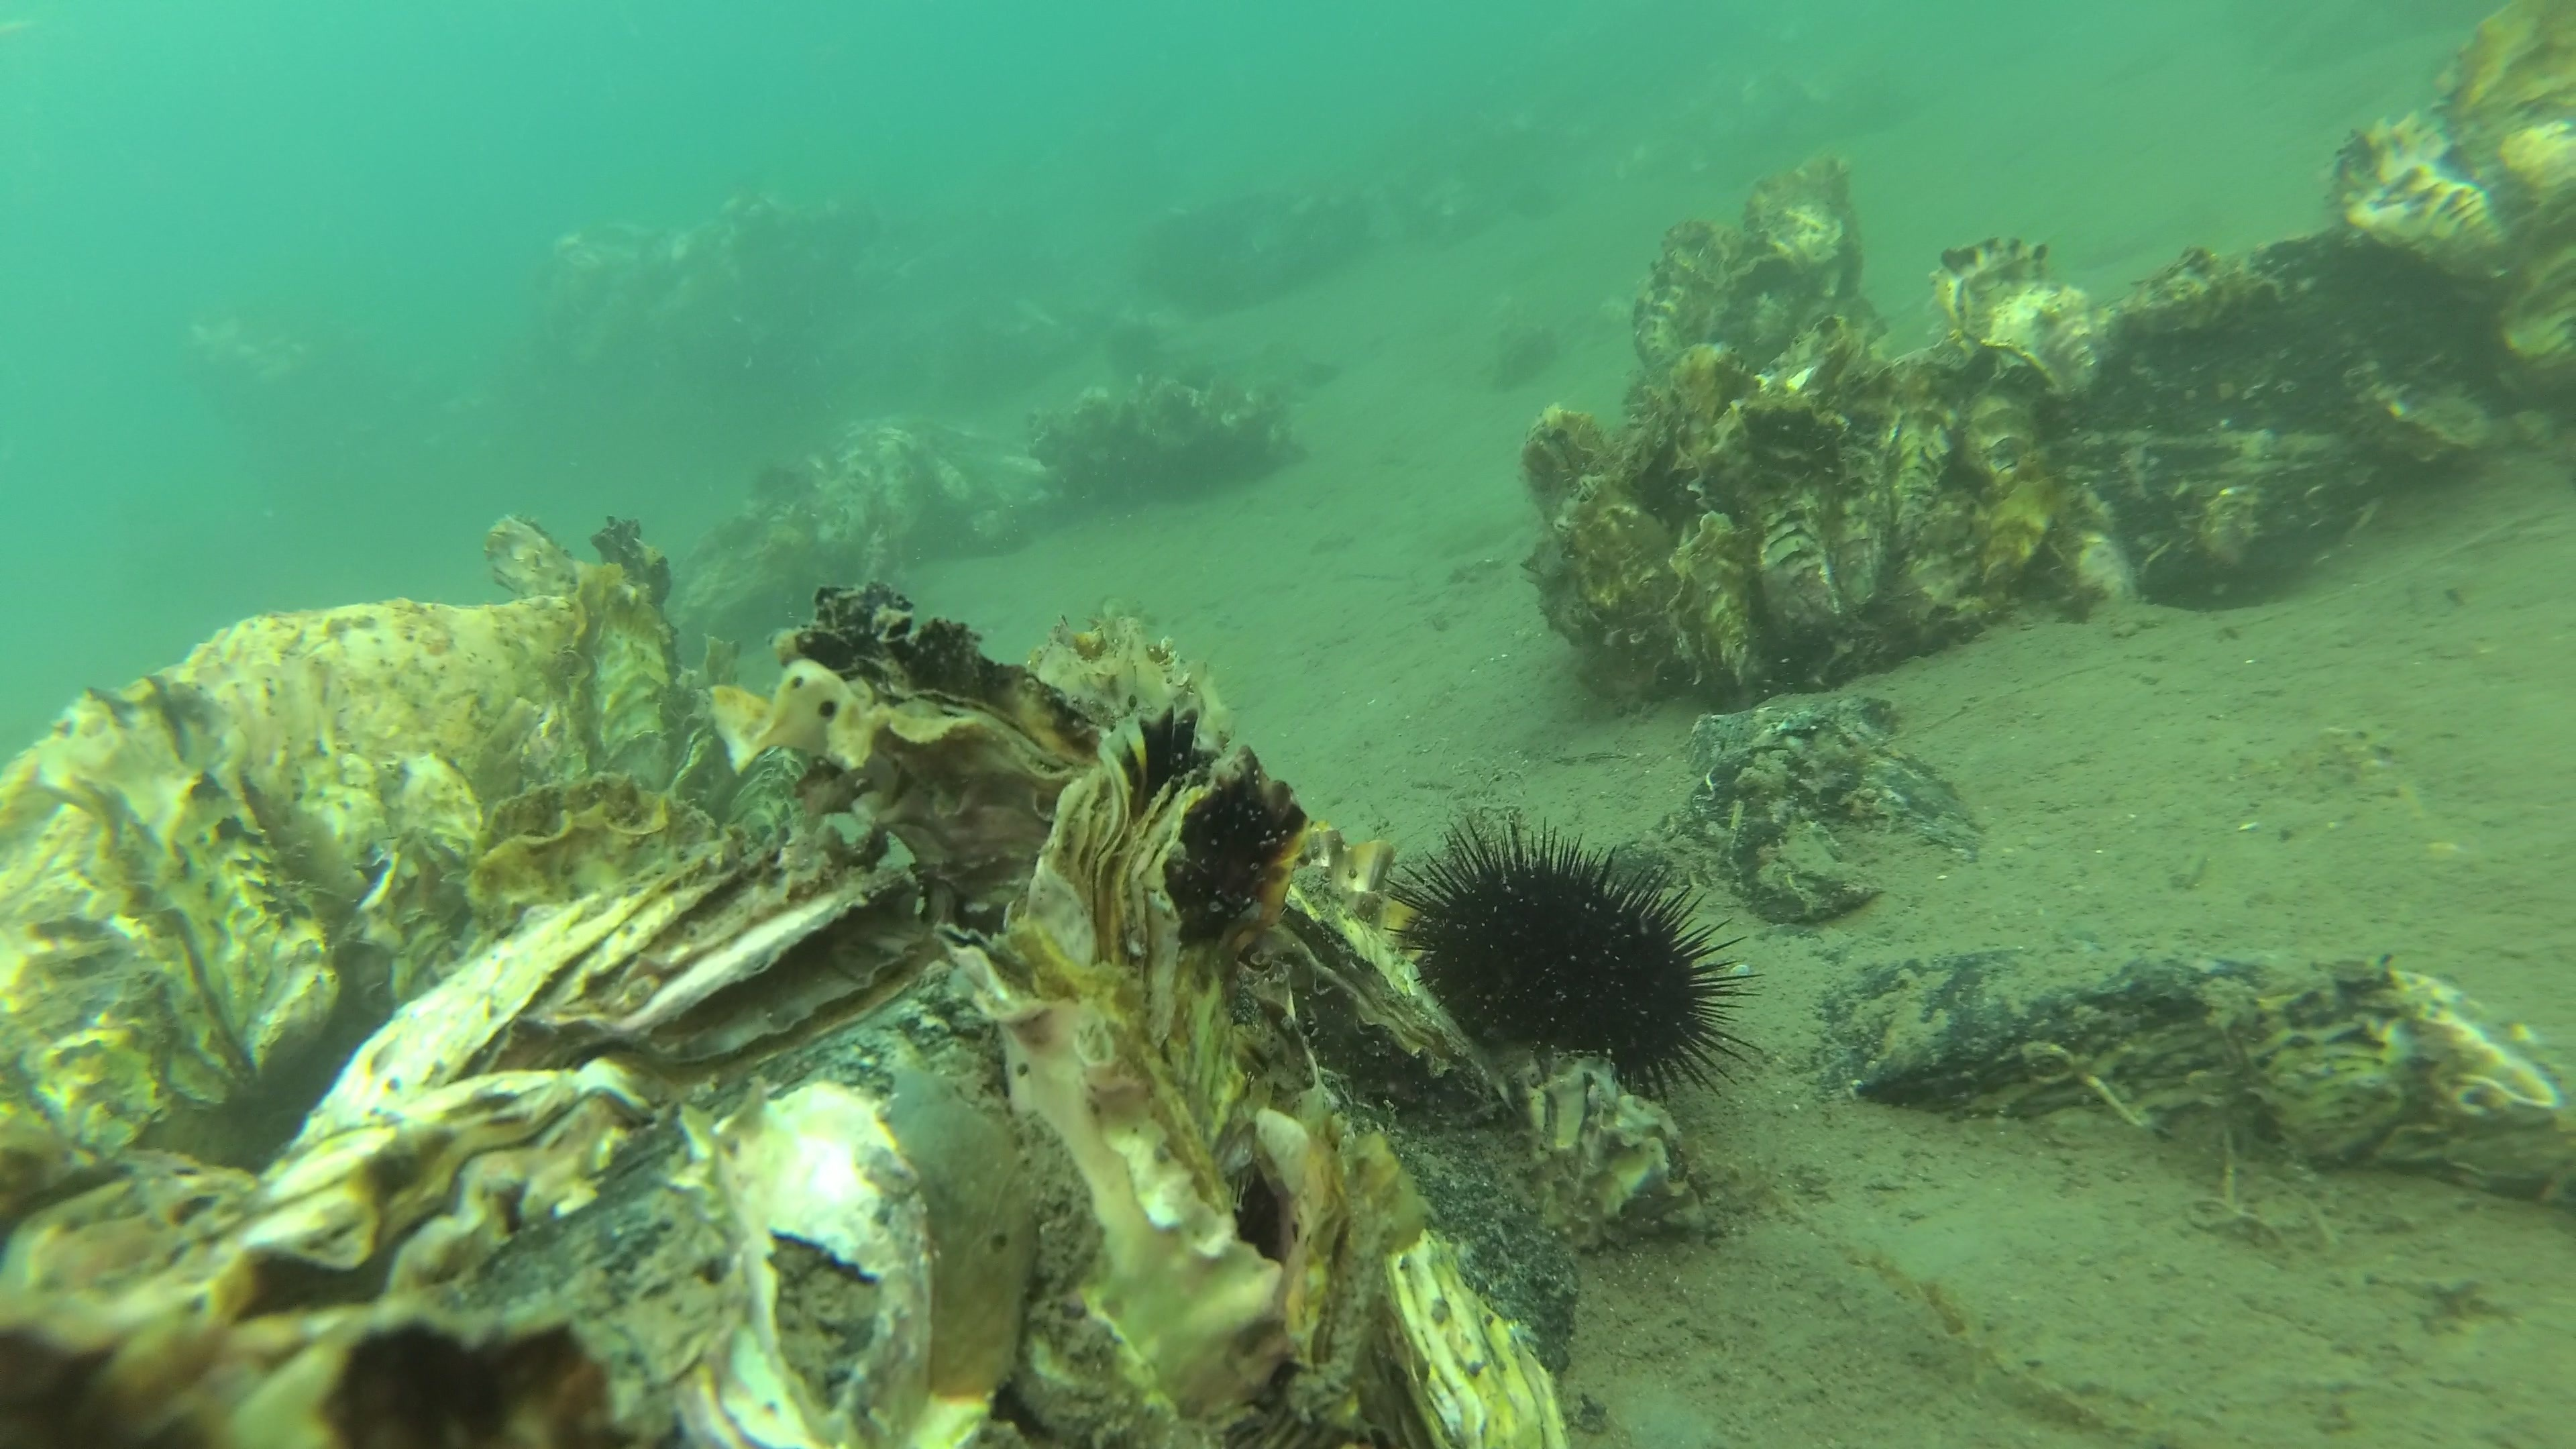echinus: (1376, 814, 1775, 1108), (1100, 313, 1169, 382), (1506, 186, 1557, 221)
